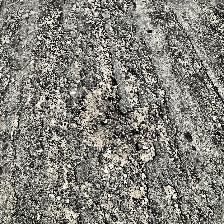pothole: (72, 77, 152, 171)
